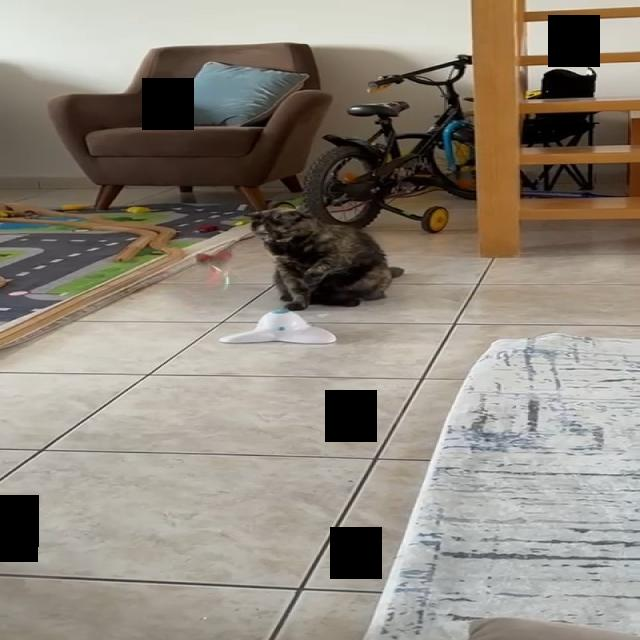authorized: (243, 205, 404, 310)
